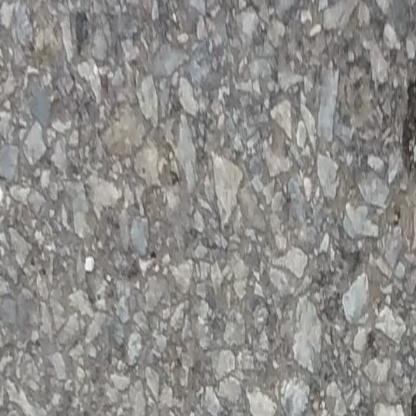Cracks: (399, 43, 416, 174), (404, 390, 416, 416)
